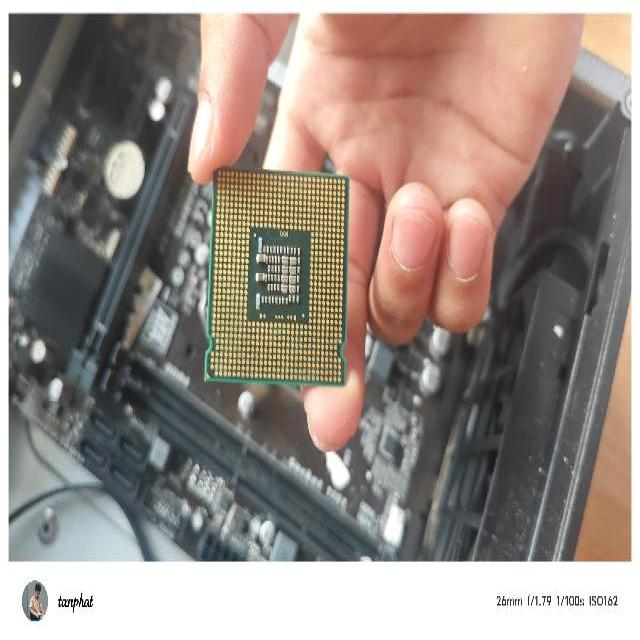CPU: (204, 161, 352, 394)
